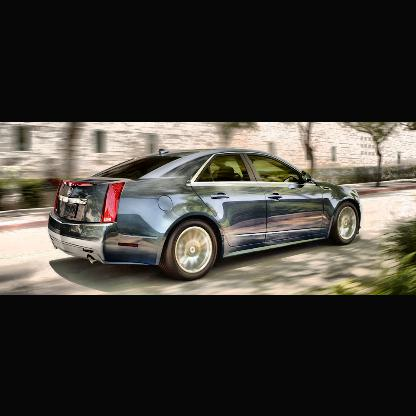Cadillac CTS-V Sedan 2012: (47, 147, 364, 282)
